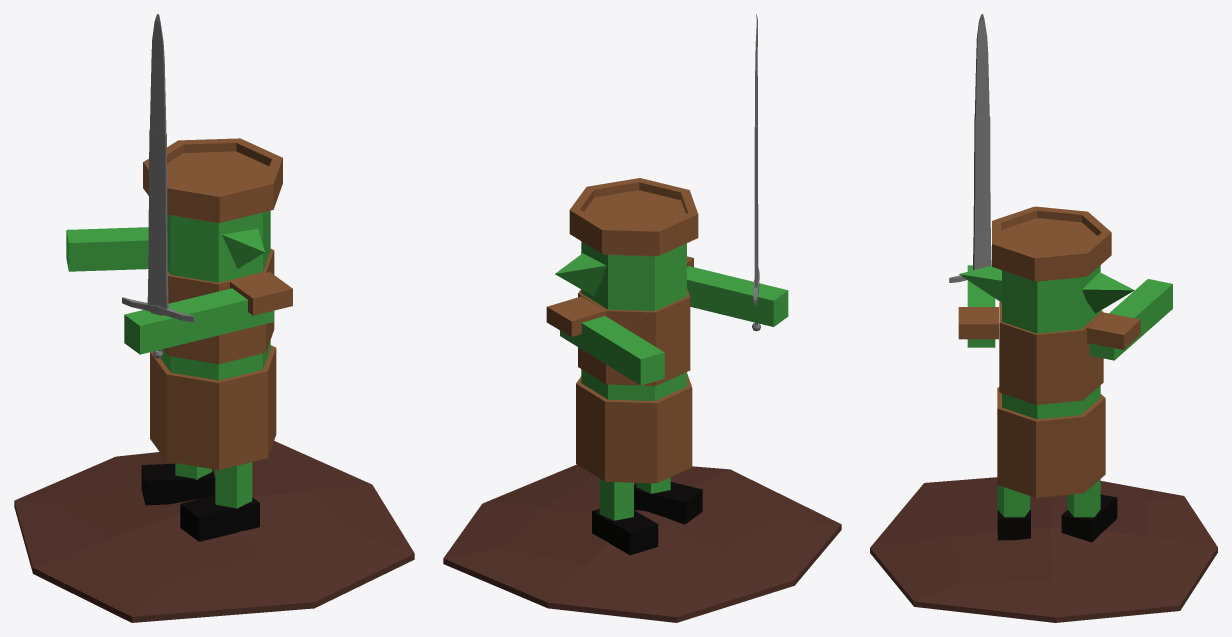
File: globin_.fbx
3 renders of one model, left to right at view 1: azimuth 30°, elevation 25°; view 2: azimuth 150°, elevation 25°; view 3: azimuth 270°, elevation 25°, orthographic. The views are drawn at different scales.
Parts seen in each view (by area): view 1: Espada; view 2: Espada; view 3: Espada.
Boxes of the visible parts, x1,y1,x2,y2 form: Espada: (14,14,414,622); Espada: (443,14,841,622); Espada: (870,14,1217,622).
Size of the model in its own units: 718 by 1151 by 727.
